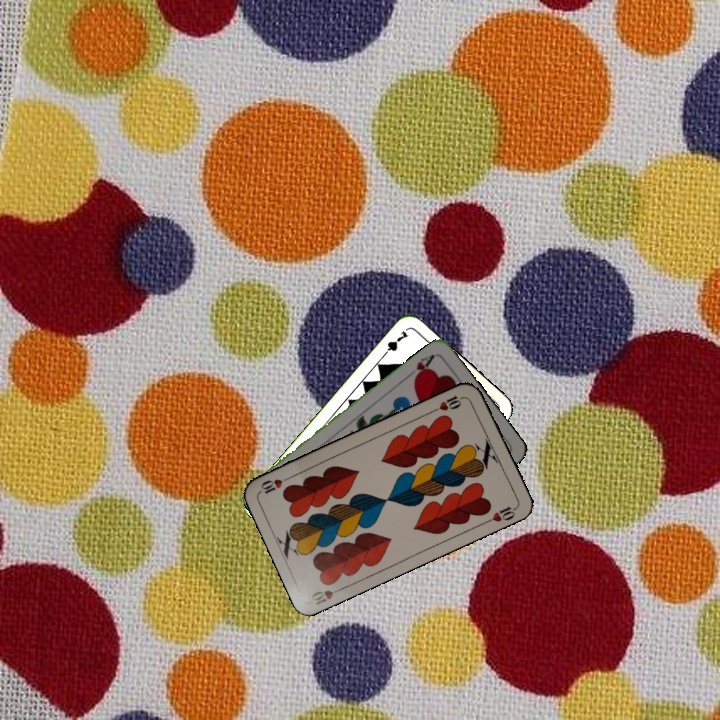G7: (378, 327, 411, 360)
H10: (306, 583, 347, 607), (428, 391, 467, 415)
HA: (403, 350, 437, 383)
